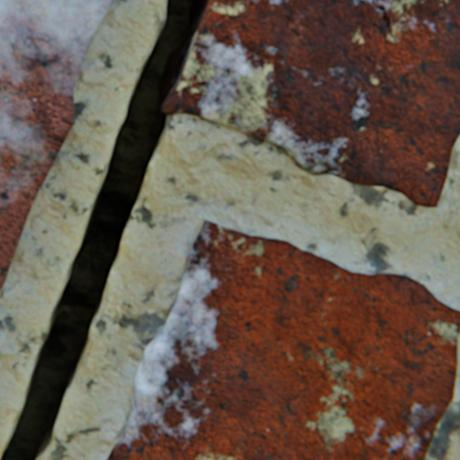brick: (106, 220, 459, 459), (161, 0, 459, 206), (0, 0, 113, 294)
crack: (0, 0, 208, 459), (371, 0, 396, 45)
